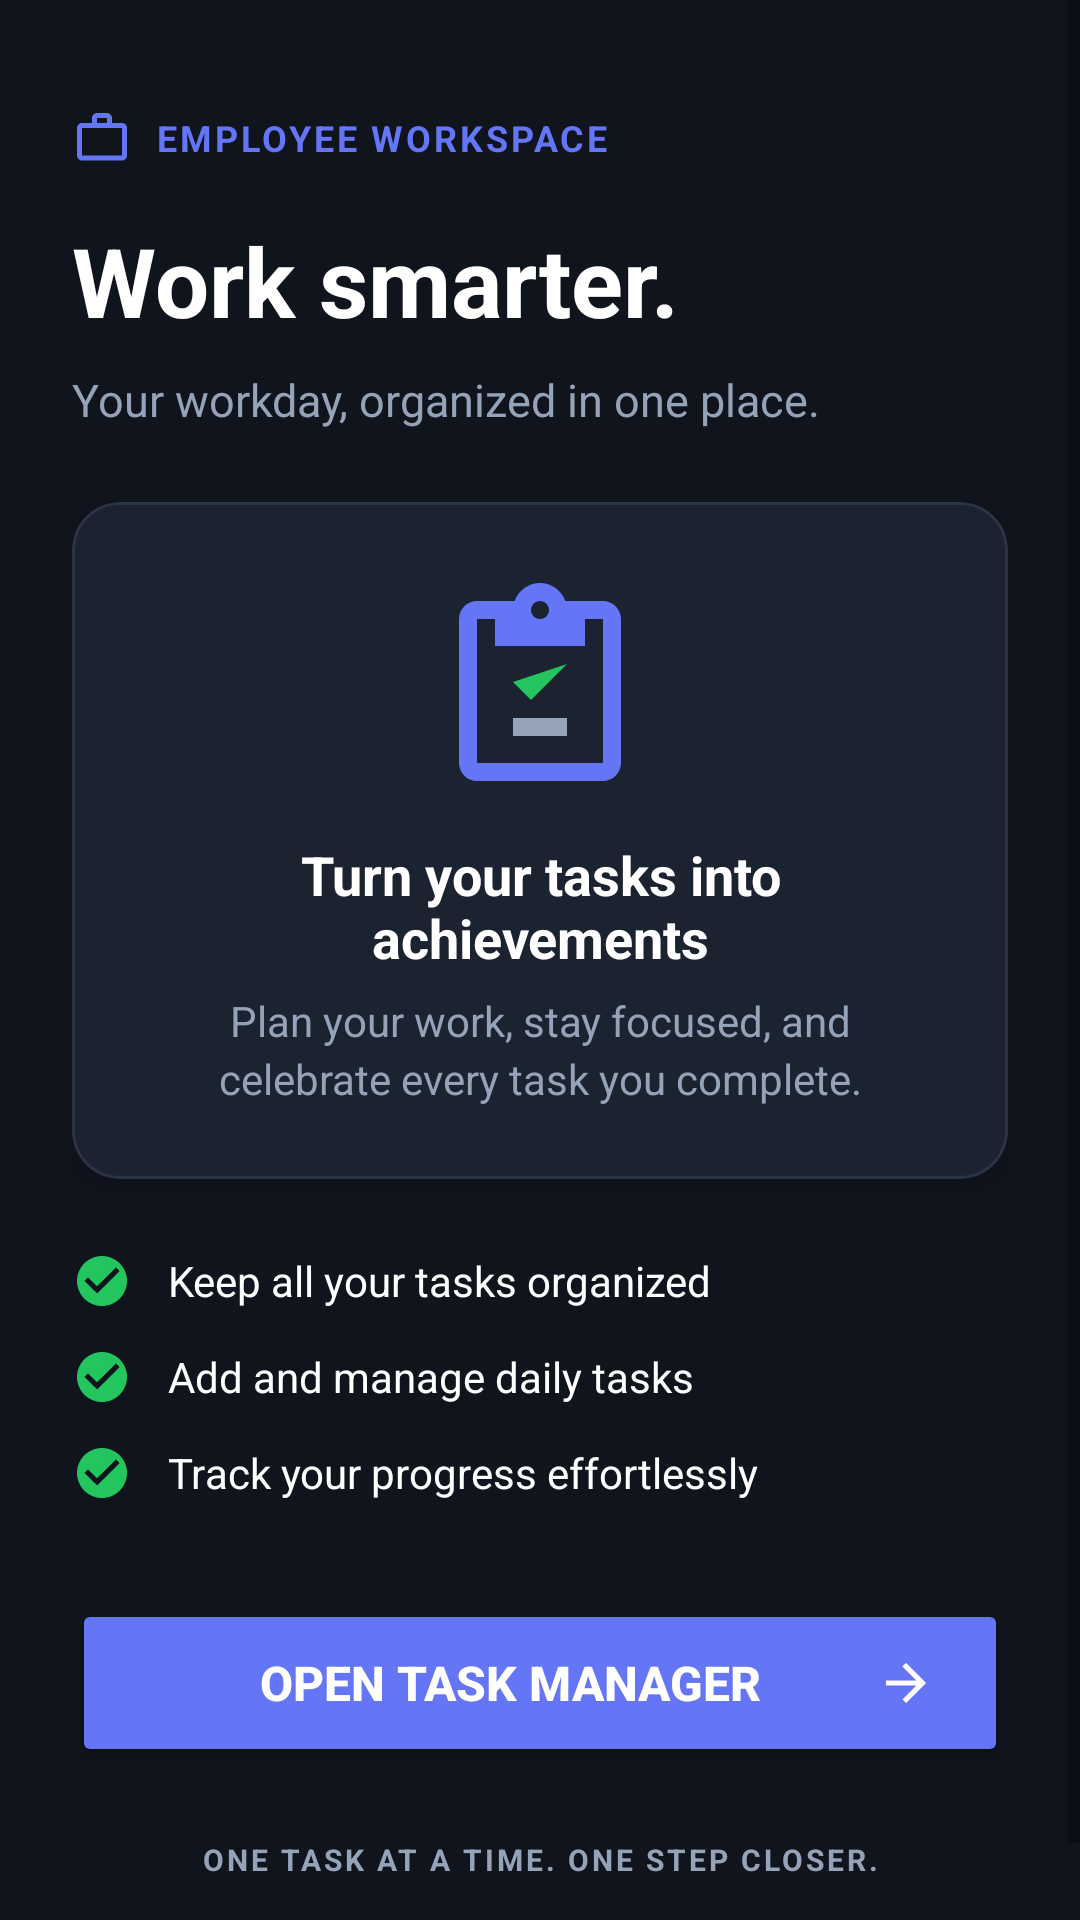

Icons on this 1080 × 1920 Android screen, each with its box as (x1, y1, x2, y2):
Check icon: (77, 1256, 127, 1306), (77, 1352, 127, 1402), (77, 1448, 127, 1498)
Task illustration: (459, 583, 621, 781)
